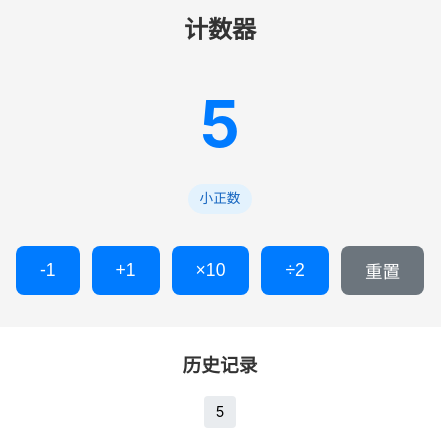
it: Counter › should multiply by 10 when ×10 button is clicked
Click the button "×10": (211, 270) x1=172 y1=246 x2=250 y2=294
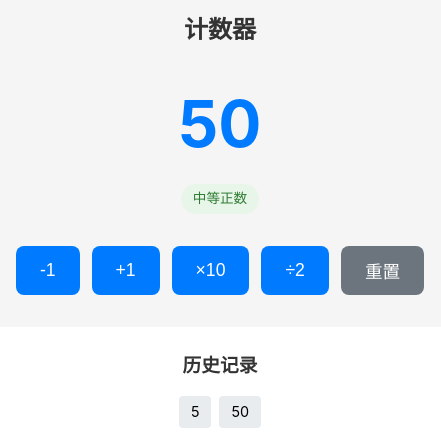
Check: the text "中等正数" is shown, box x1=181 y1=184 x2=259 y2=214
